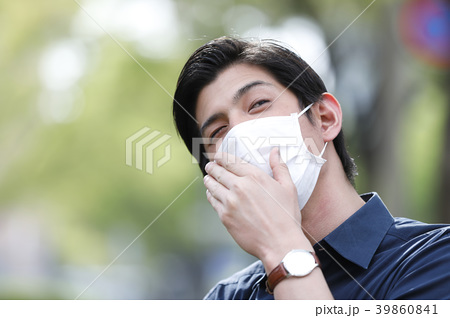mask: (201, 120, 329, 209)
